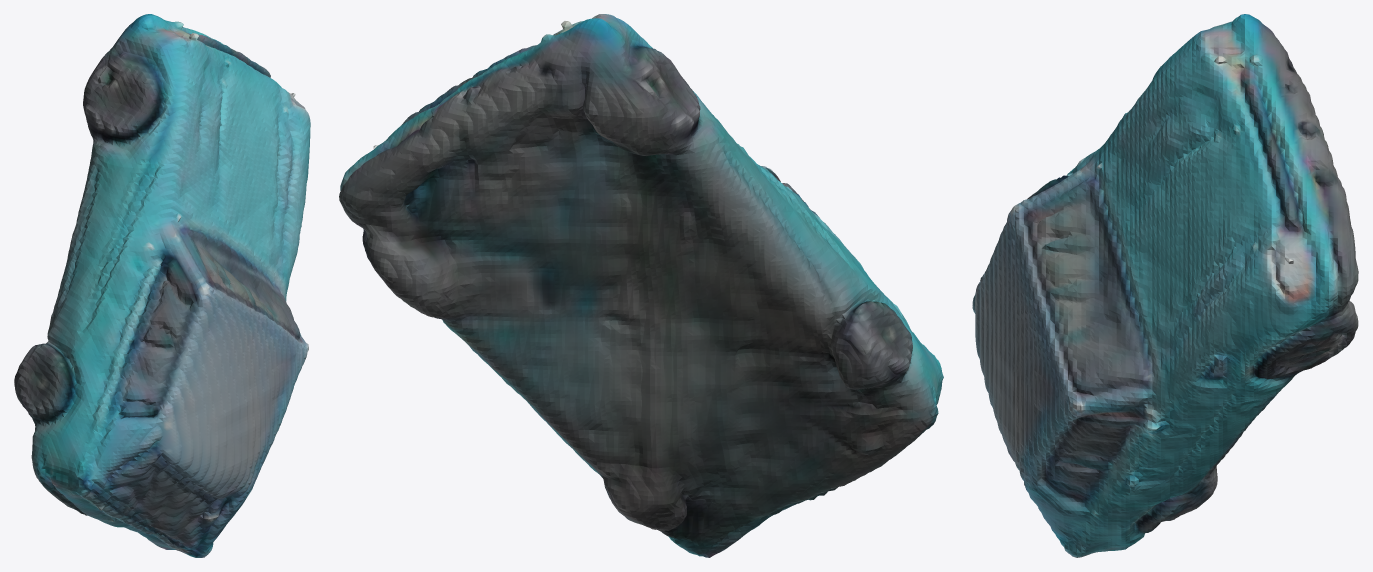
The picture shows the model from 3 angles, left to right: view 1: azimuth 30°, elevation 25°; view 2: azimuth 150°, elevation 25°; view 3: azimuth 270°, elevation 25°; orthographic projection. The views are drawn at different scales.
Parts seen in each view (by area): view 1: world; view 2: world; view 3: world.
Part boxes in pixels (left/top/right/bottom): world: left=14, top=14, right=310, bottom=557; world: left=339, top=14, right=943, bottom=557; world: left=972, top=14, right=1358, bottom=557.
Size of the model in its own units: 0.7651 by 0.941 by 0.5955.
